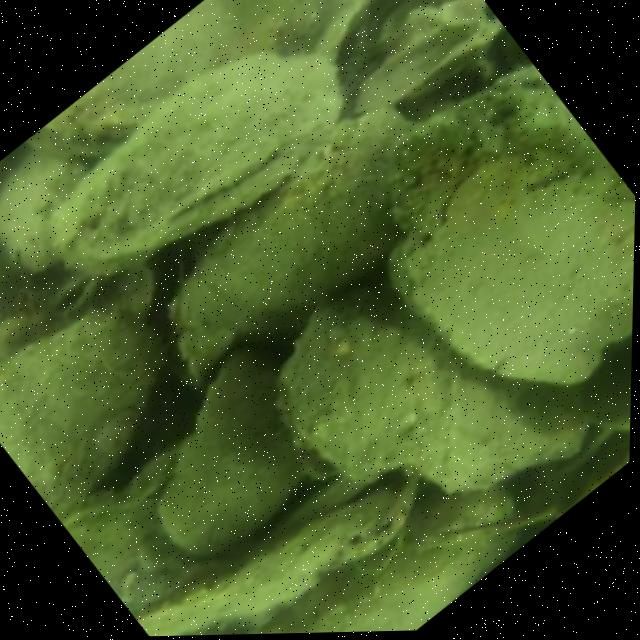Oyster-Closed: (53, 46, 346, 270), (134, 466, 424, 636)
Oyster-Indeterminate: (384, 70, 635, 384), (279, 271, 595, 497), (168, 106, 415, 338), (249, 488, 532, 634), (0, 307, 170, 524), (154, 346, 310, 561)
